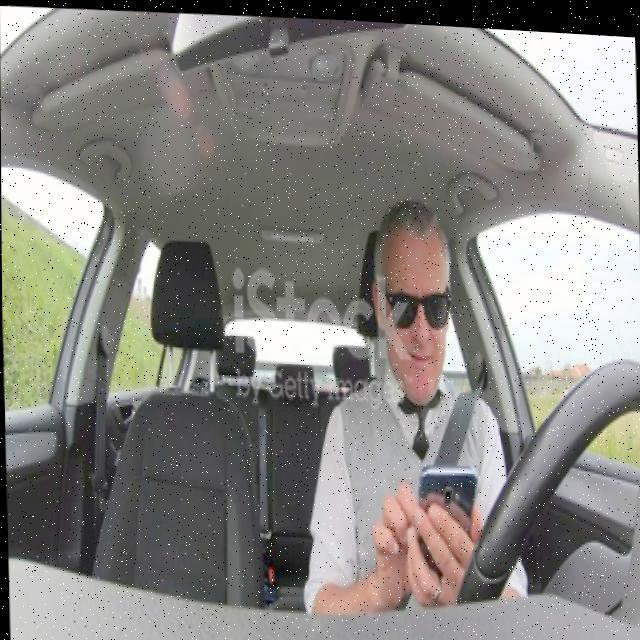PhoneCall: (415, 450, 480, 578)
